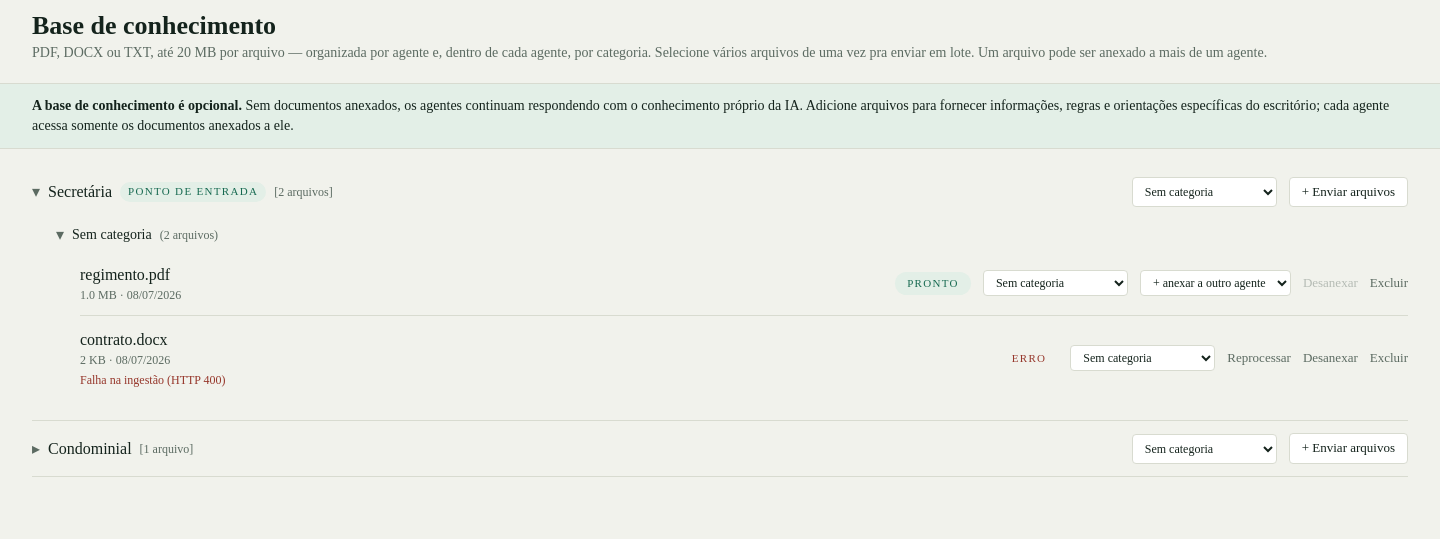
Scenario: KnowledgeBasePanel › mostra erro quando o reprocessamento falha
Expected: the text "contrato.docx" is shown, [80,331,168,348]
Click the button with aria-label "Reprocessar contrato.docx".
click(1259, 358)  # box [1227,350,1291,367]
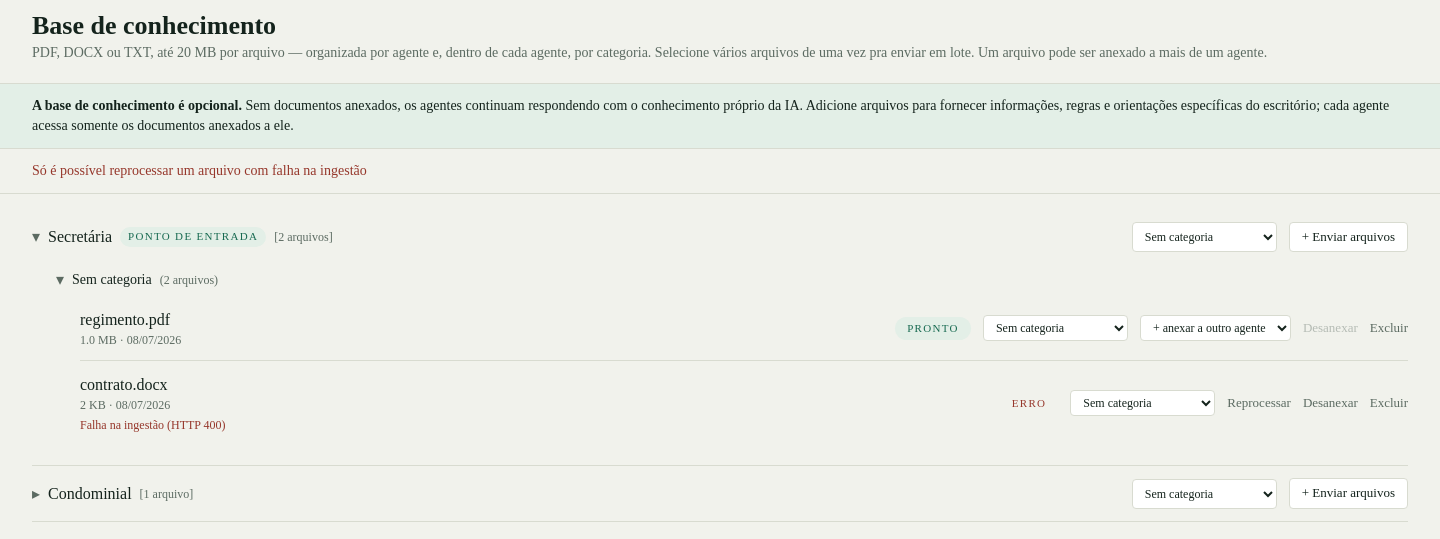
Now the text "Só é possível reprocessar um arquivo com falha na ingestão" is shown, box [0,148,1439,194]
